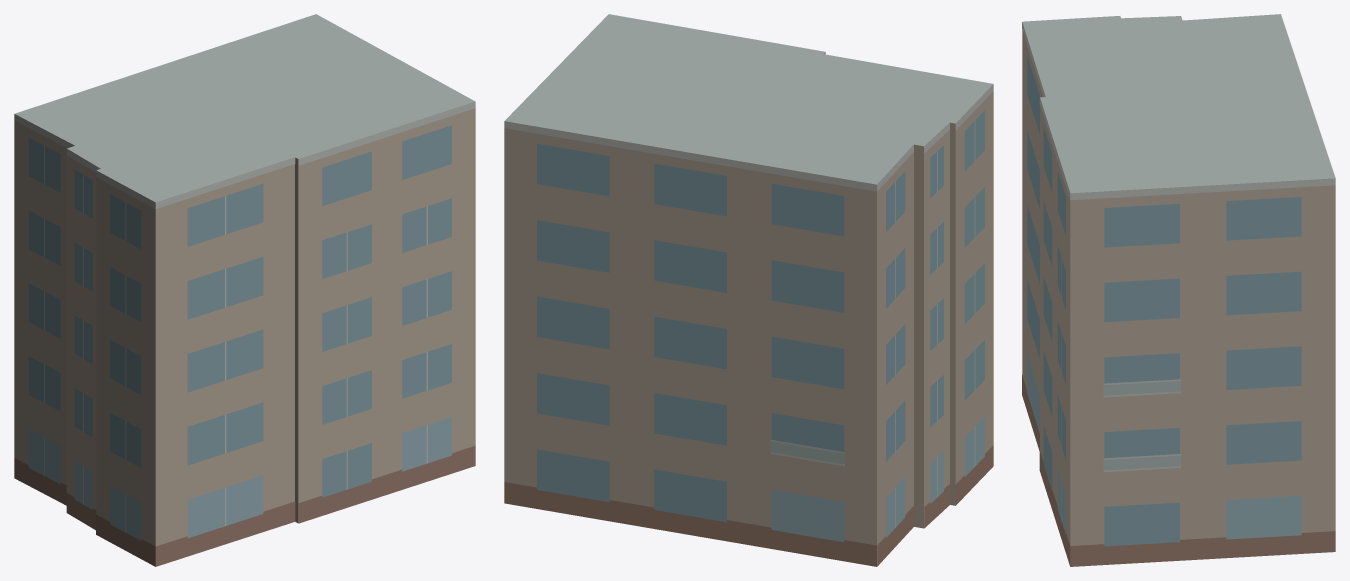
Rendered from survey-upis-32685628.glb.
3 renders of one model, left to right at view 1: azimuth 30°, elevation 25°; view 2: azimuth 150°, elevation 25°; view 3: azimuth 270°, elevation 25°, orthographic. The views are drawn at different scales.
Parts seen in each view (by area): view 1: survey-upis-32685628.tmp; view 2: survey-upis-32685628.tmp; view 3: survey-upis-32685628.tmp.
Part boxes in pixels (<box>): survey-upis-32685628.tmp: <box>14,14,475,566</box>; survey-upis-32685628.tmp: <box>504,14,993,566</box>; survey-upis-32685628.tmp: <box>1022,14,1335,566</box>.
Bounding box in the file's own units: 13.6 × 13.2 × 10.05.
